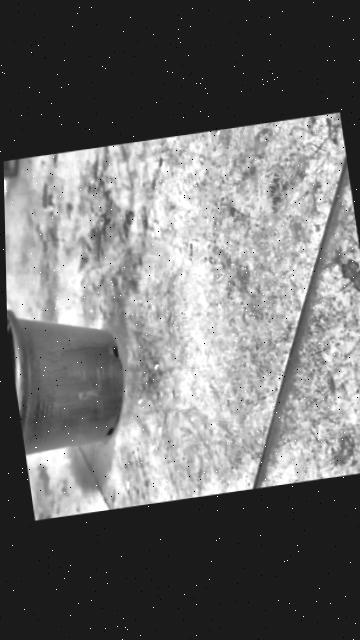pot: (7, 295, 132, 463)
